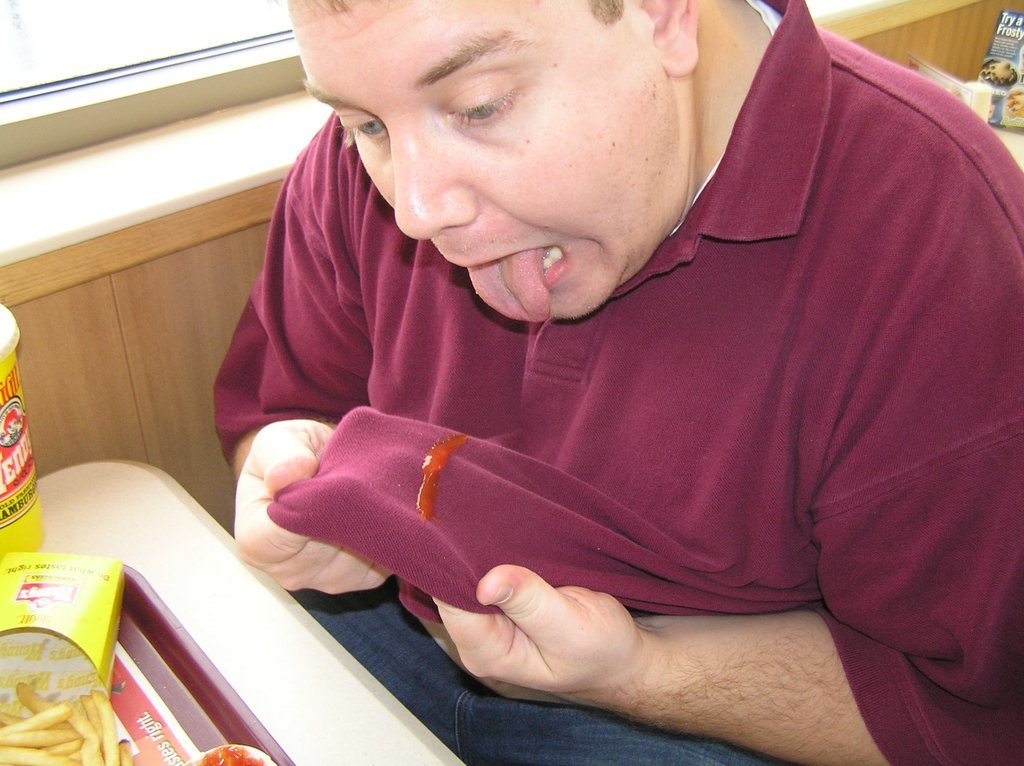French fries: (0, 679, 145, 765)
